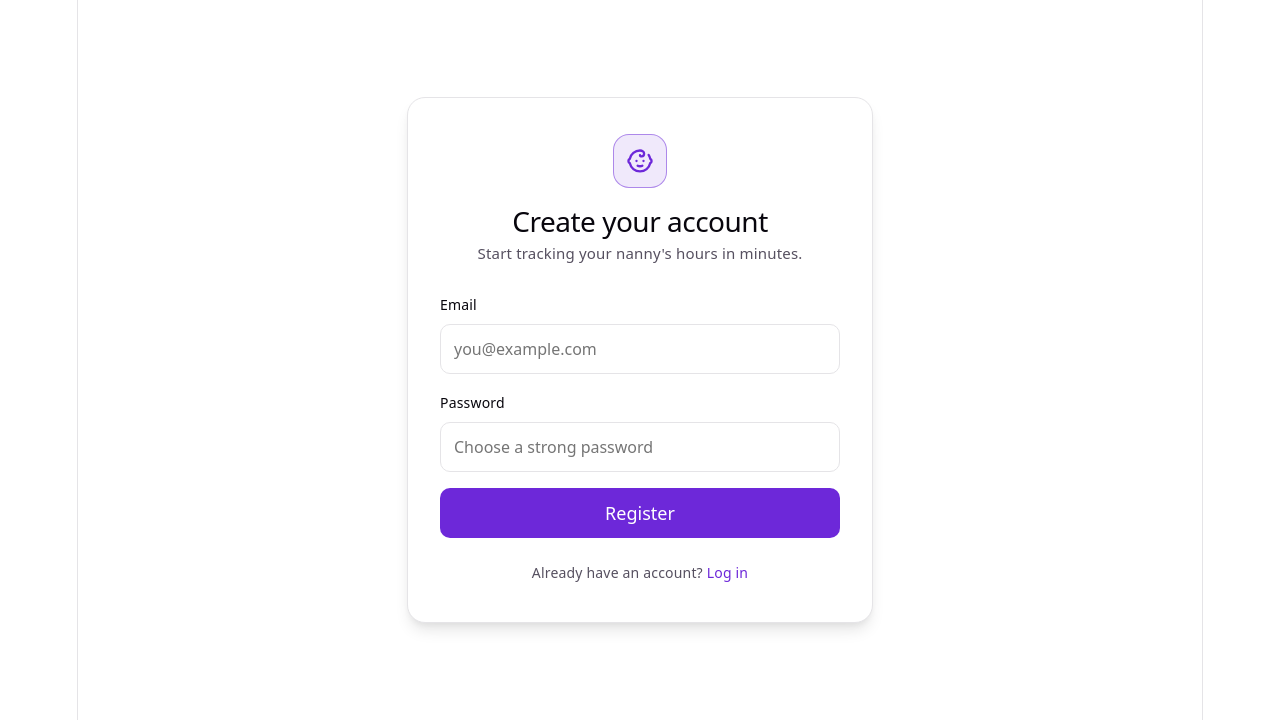
Test case: RegisterPage › shows an error message when registration fails
In the field labelled "Email": (640, 349) [440, 324, 840, 374], type "new@example.com"
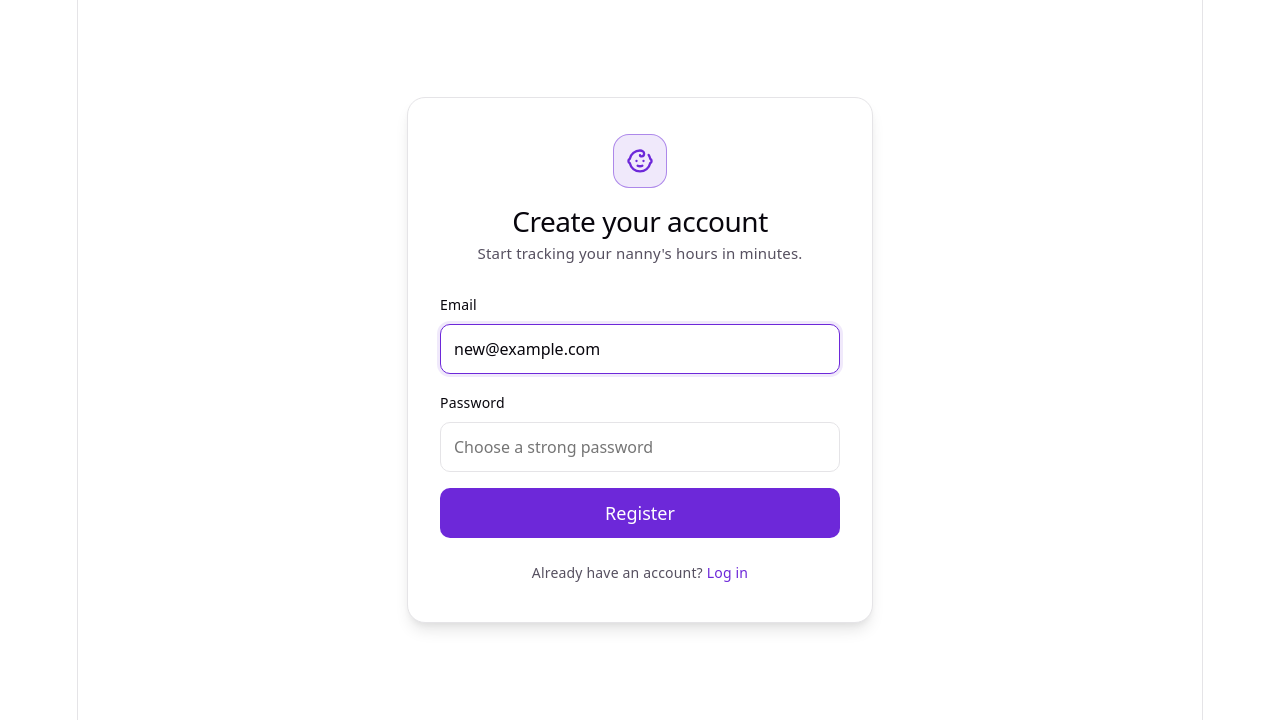
In the password field labelled "Password": (640, 447) [440, 422, 840, 472], type "x"
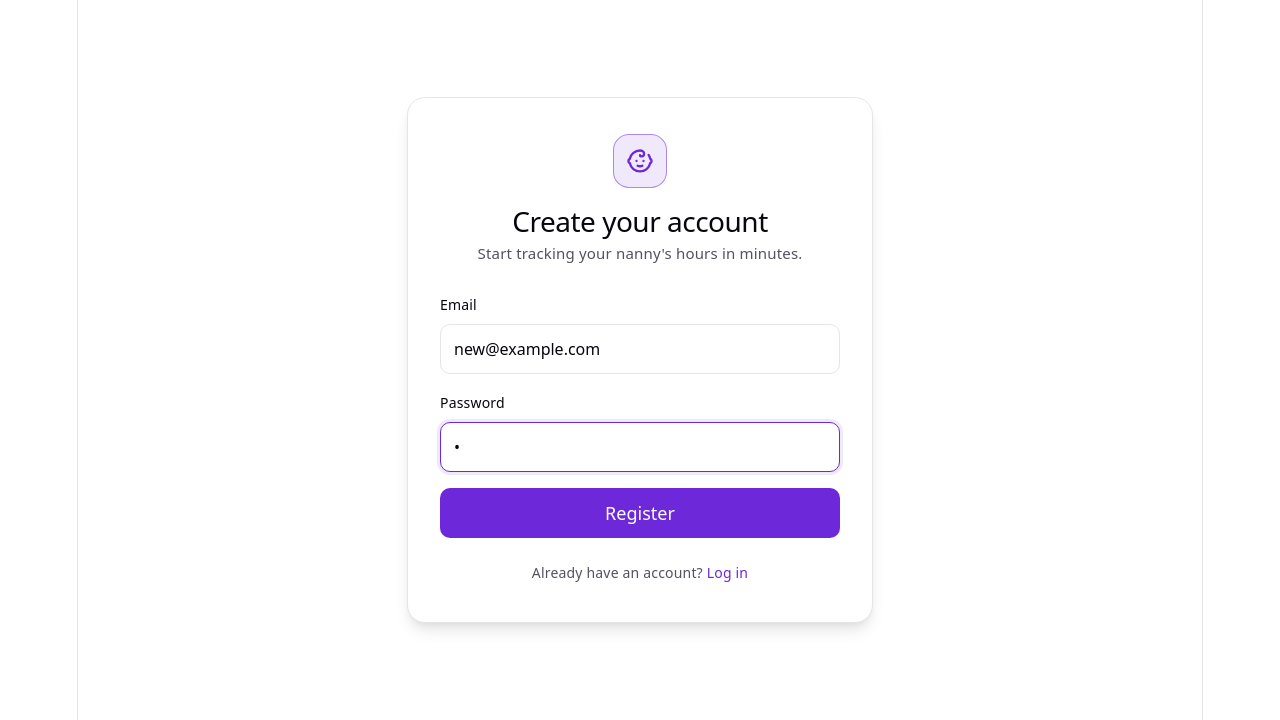
Click the button "Register": click(640, 513) [440, 488, 840, 538]
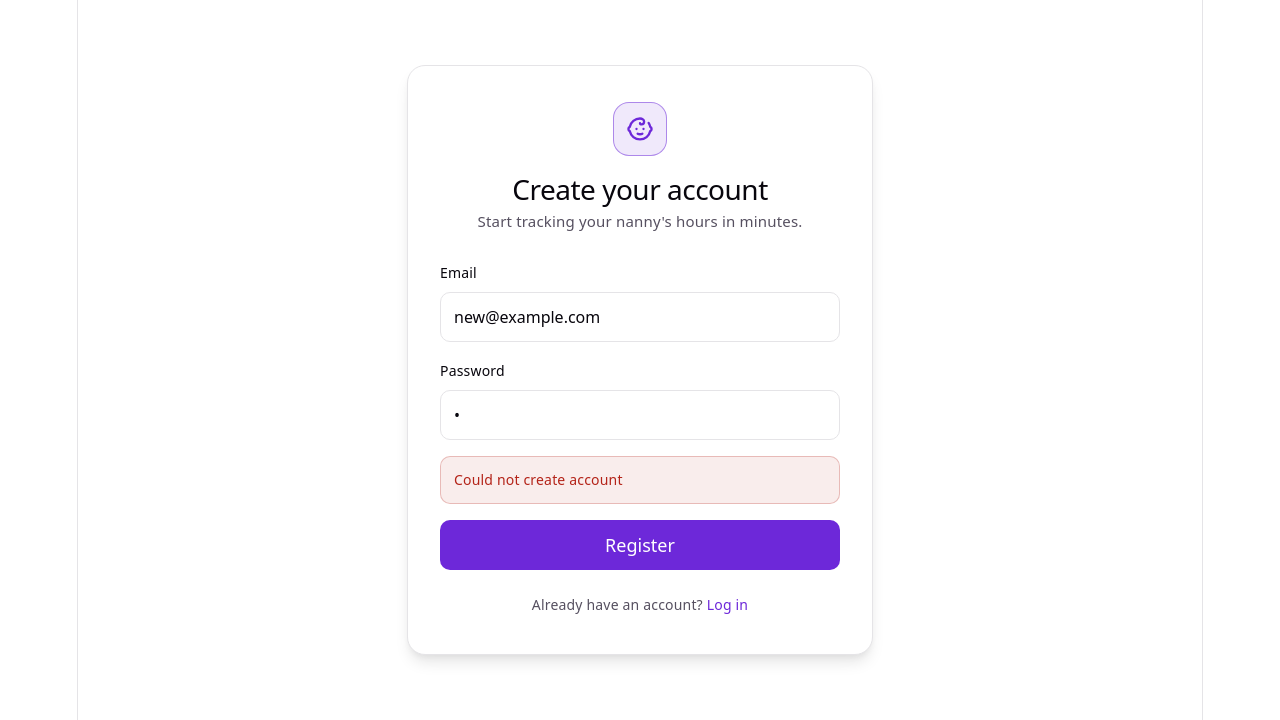
Expected: the message reads "Could not create account", [454, 470, 623, 489]
